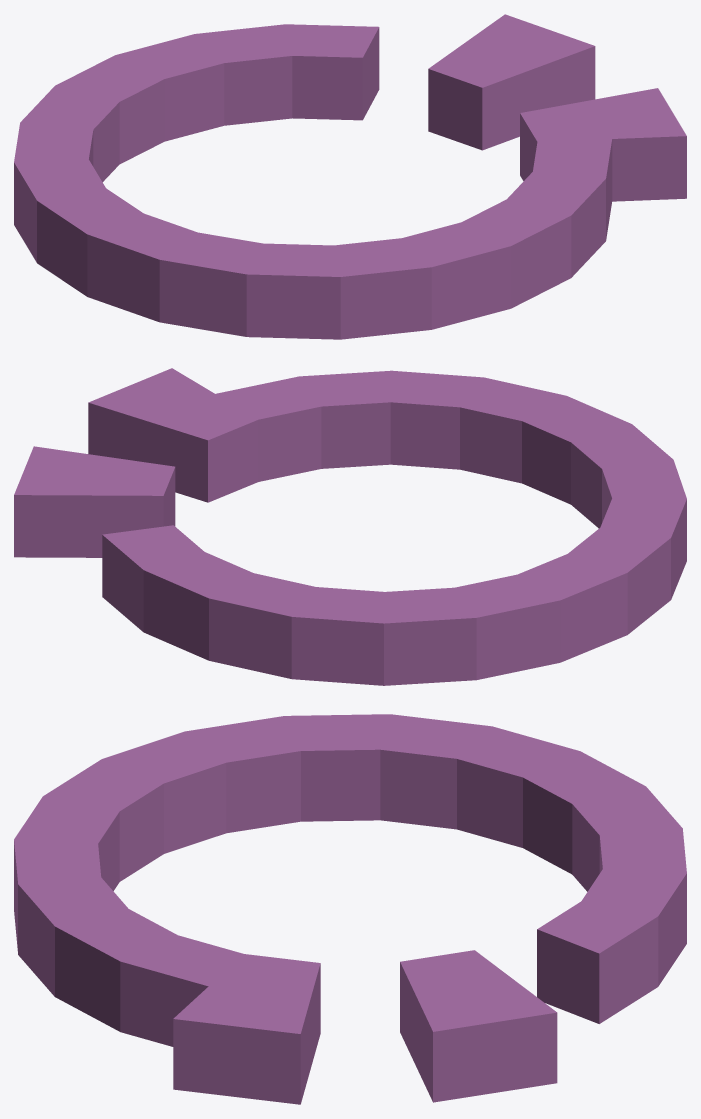
File: mesh_mazewalls02.gltf
The picture shows the model from 3 angles, top to bottom: view 1: azimuth 30°, elevation 25°; view 2: azimuth 150°, elevation 25°; view 3: azimuth 270°, elevation 25°; orthographic projection. The views are drawn at different scales.
Visible parts, largest first — view 1: mesh_mazewalls02; view 2: mesh_mazewalls02; view 3: mesh_mazewalls02.
Part boxes in pixels (left/top/right/bottom): mesh_mazewalls02: left=14, top=14, right=686, bottom=339; mesh_mazewalls02: left=14, top=368, right=686, bottom=685; mesh_mazewalls02: left=14, top=714, right=686, bottom=1104.
Size of the model in its own units: 93.78 by 9.65 by 83.36.
